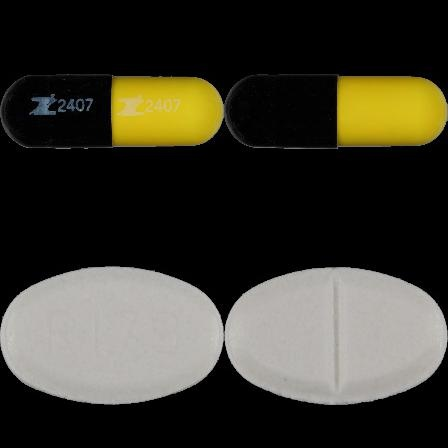16590-217: (0, 0, 224, 224)
